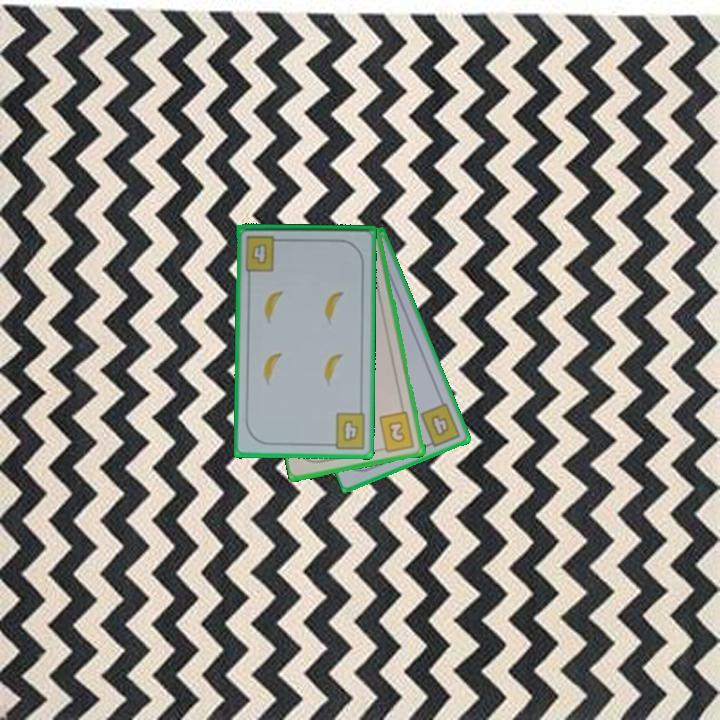2b: (376, 409, 417, 456)
4b: (417, 399, 464, 451), (324, 409, 369, 451), (242, 232, 285, 274)
